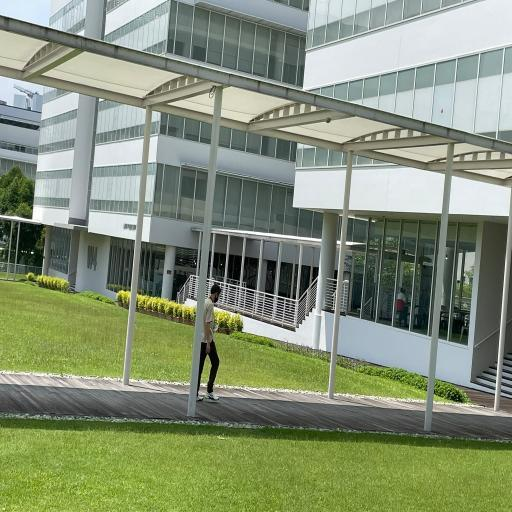person_right: (196, 284, 221, 401)
